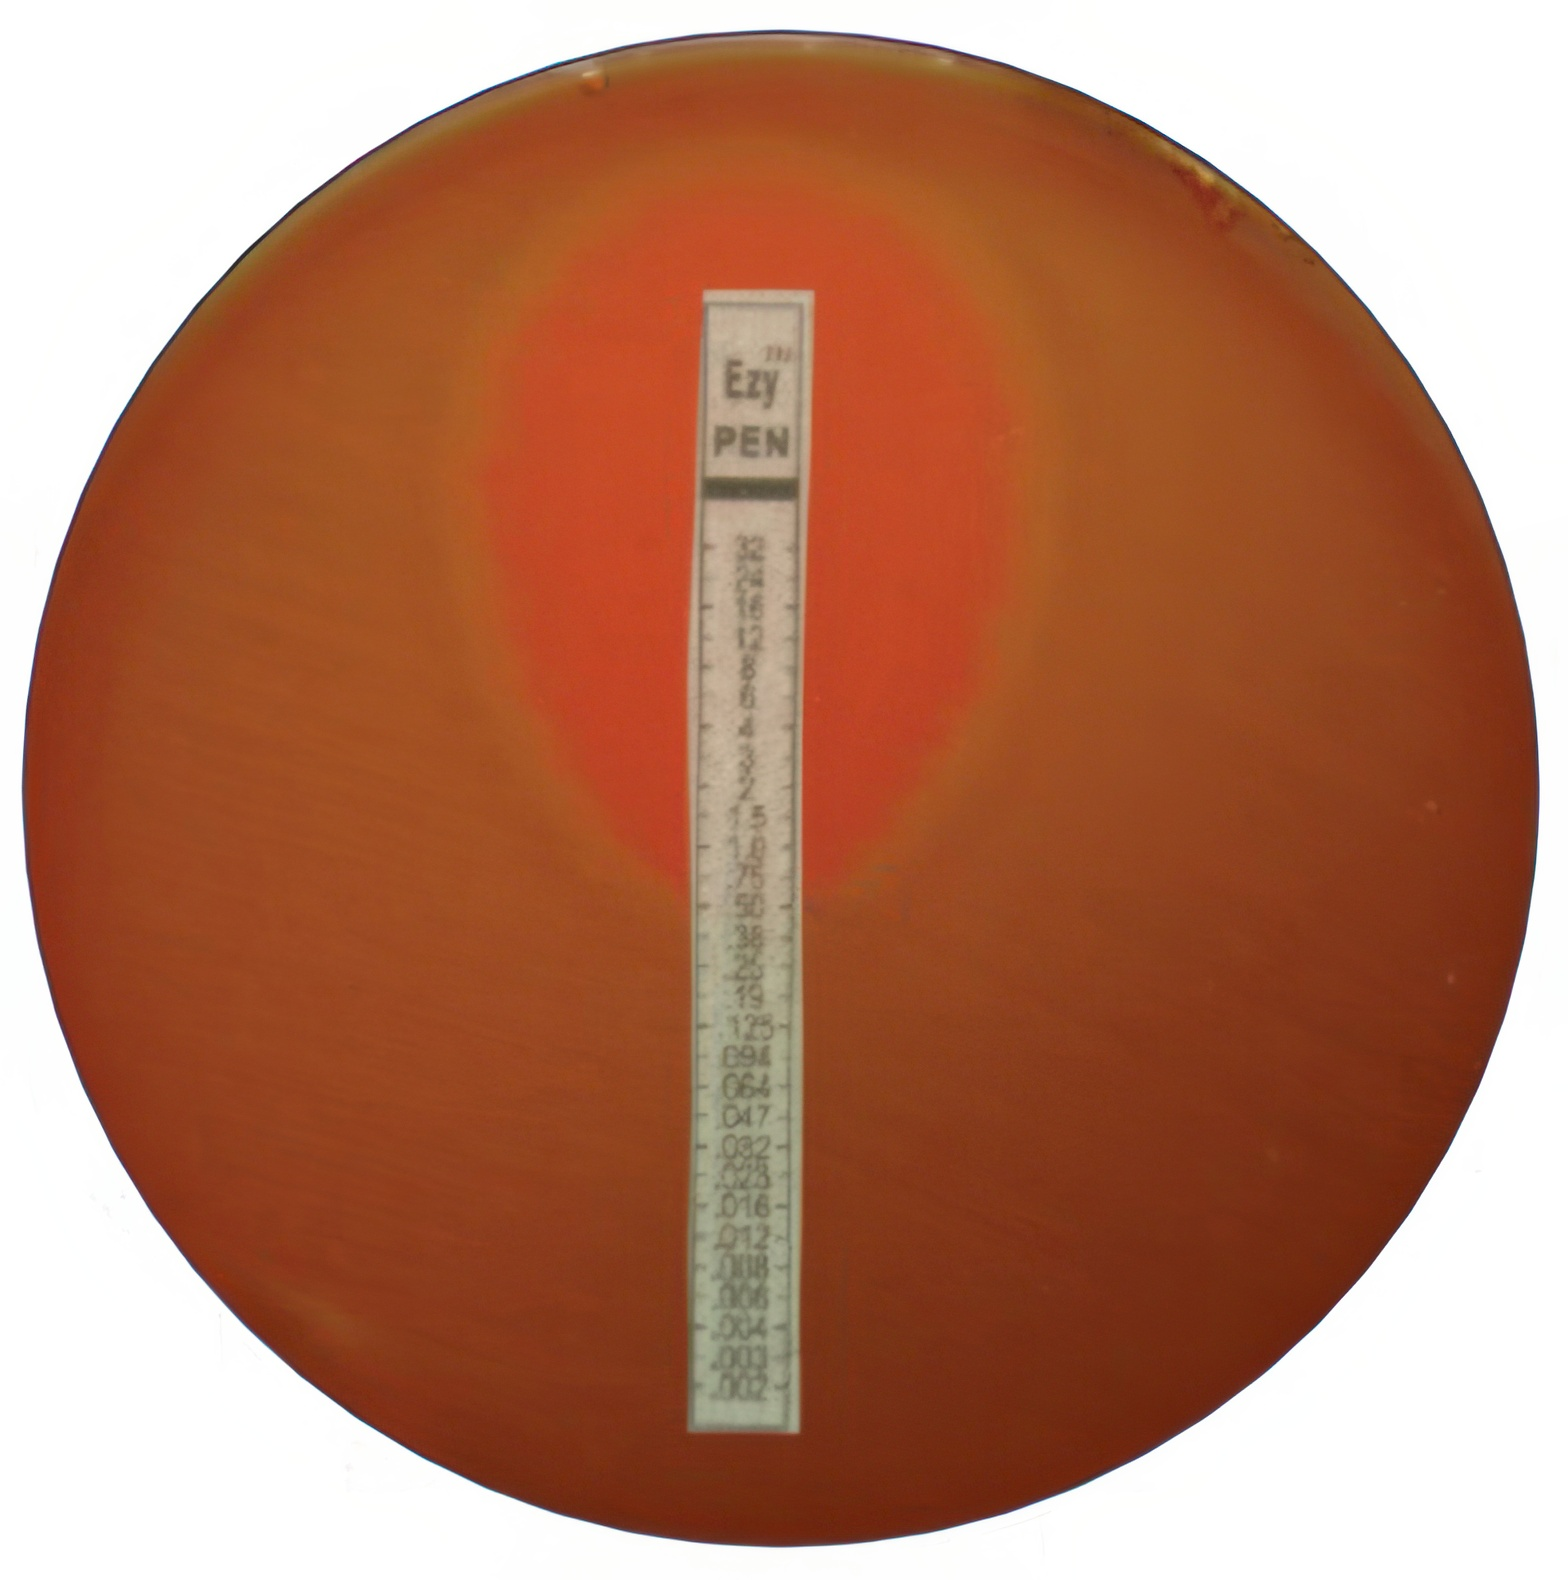line: (681, 289, 818, 1436)
zone: (491, 191, 1014, 892)
